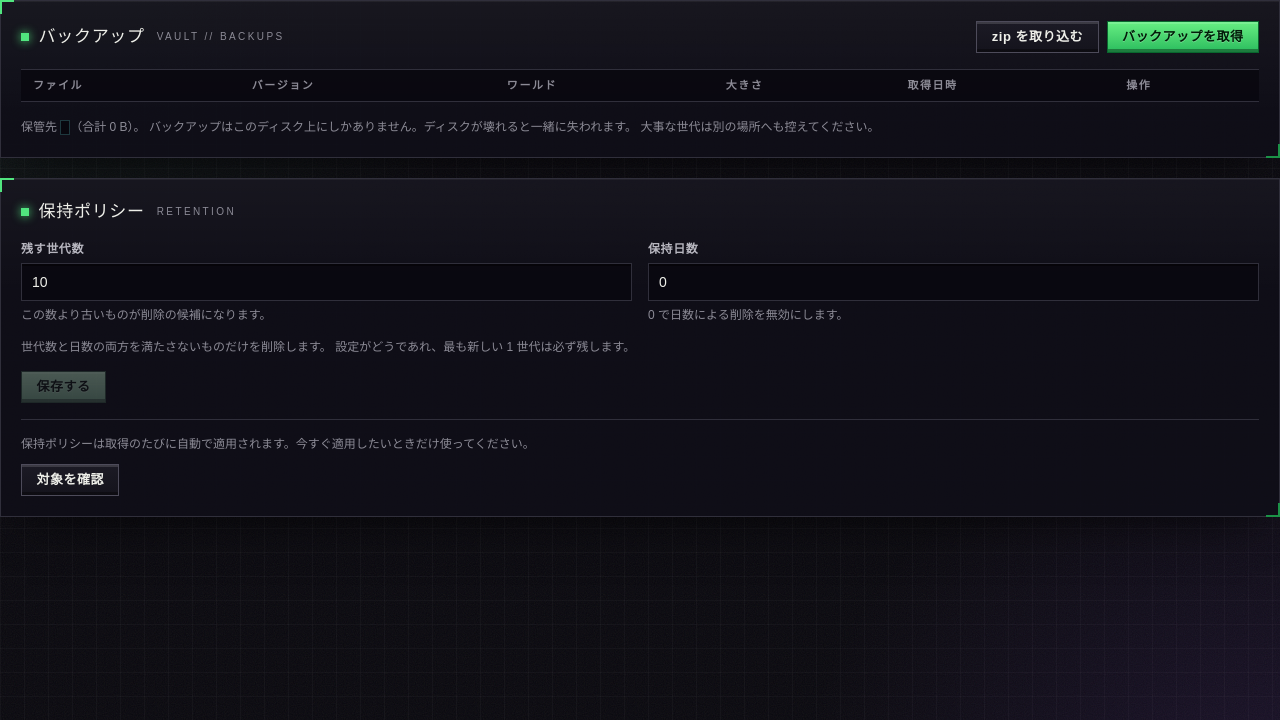
Test: BackupsPage › 手動の適用は対象を見せてから消す
The image size is (1280, 720).
Click the button "対象を確認". click: point(70, 480)
box: [21, 464, 119, 496]
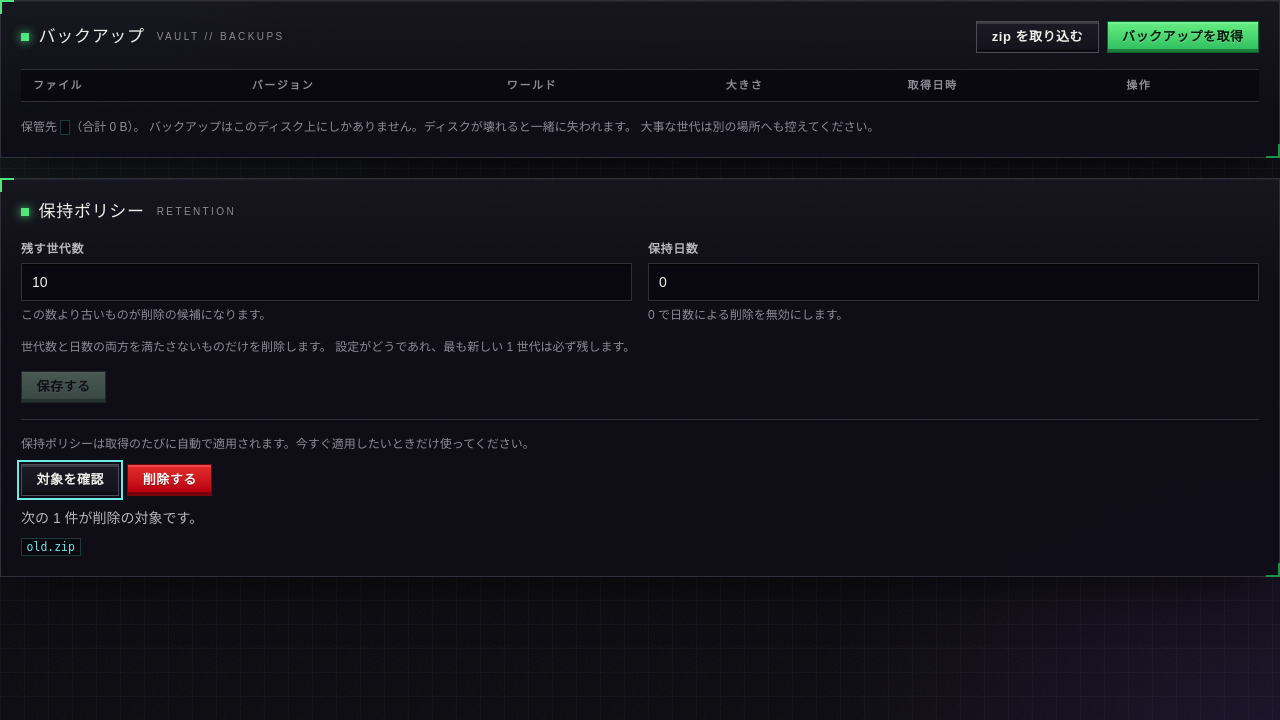
Result: the text "old.zip" is shown at [21, 538, 80, 556]
Click the button "削除する". click: point(170, 480)
box: [127, 464, 212, 496]
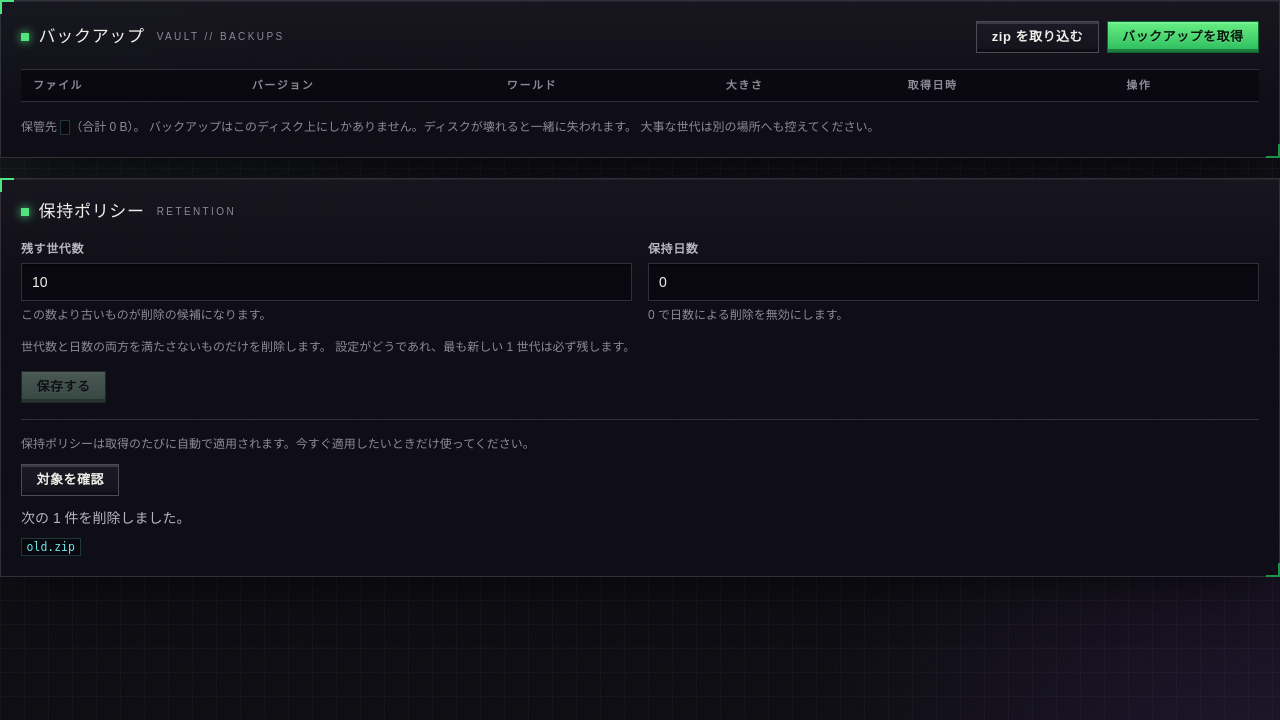
Result: the text "次の 1 件を削除しました。" is shown at [21, 510, 191, 526]
